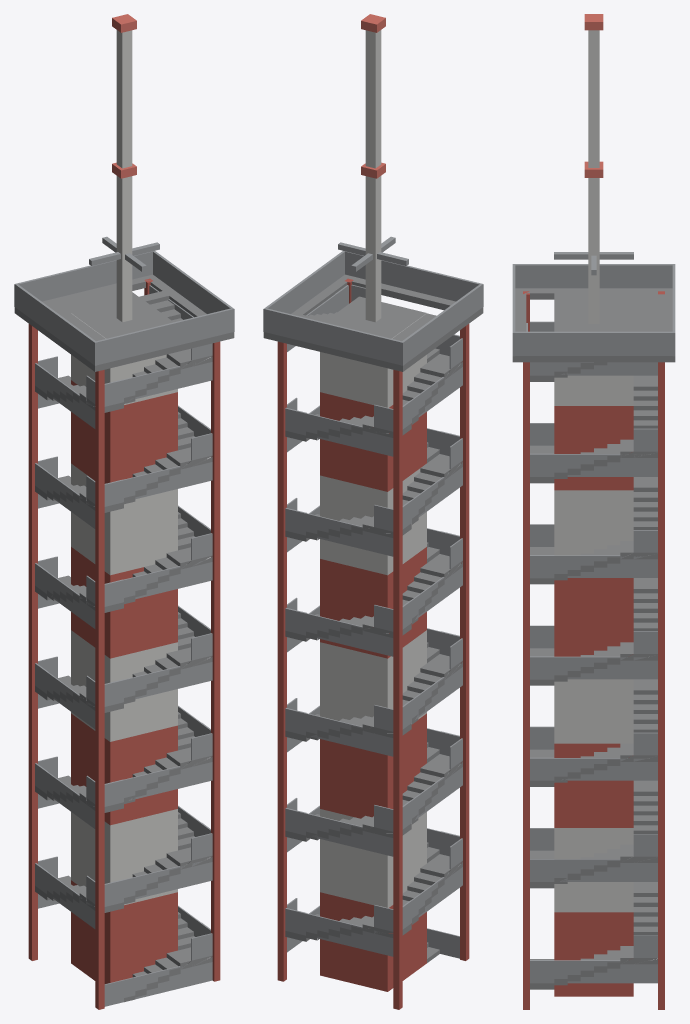
The model's file is sniper-mast.zfix-v1.lod1.glb.
3 renders of one model, left to right at view 1: azimuth 30°, elevation 25°; view 2: azimuth 150°, elevation 25°; view 3: azimuth 270°, elevation 25°, orthographic.
Visible parts, largest first — view 1: sniper-mast; view 2: sniper-mast; view 3: sniper-mast.
Boxes of the visible parts, <box> form: sniper-mast: <box>14,14,234,1009</box>; sniper-mast: <box>263,14,483,1009</box>; sniper-mast: <box>512,14,675,1009</box>.
Size of the model in its own units: 7.03 by 45.61 by 7.03.
